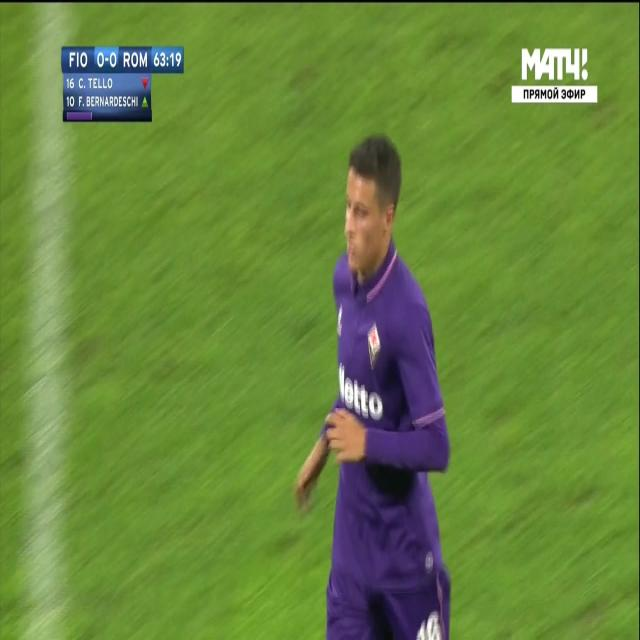Player: (296, 121, 451, 639)
